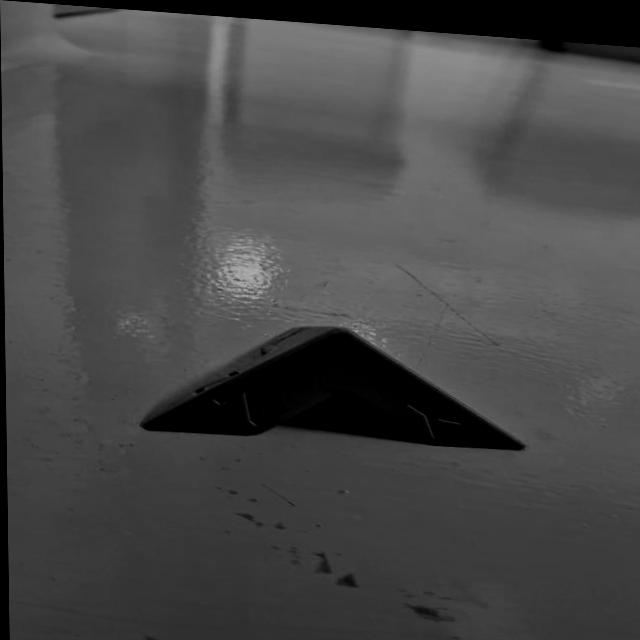eje: (132, 304, 530, 463)
